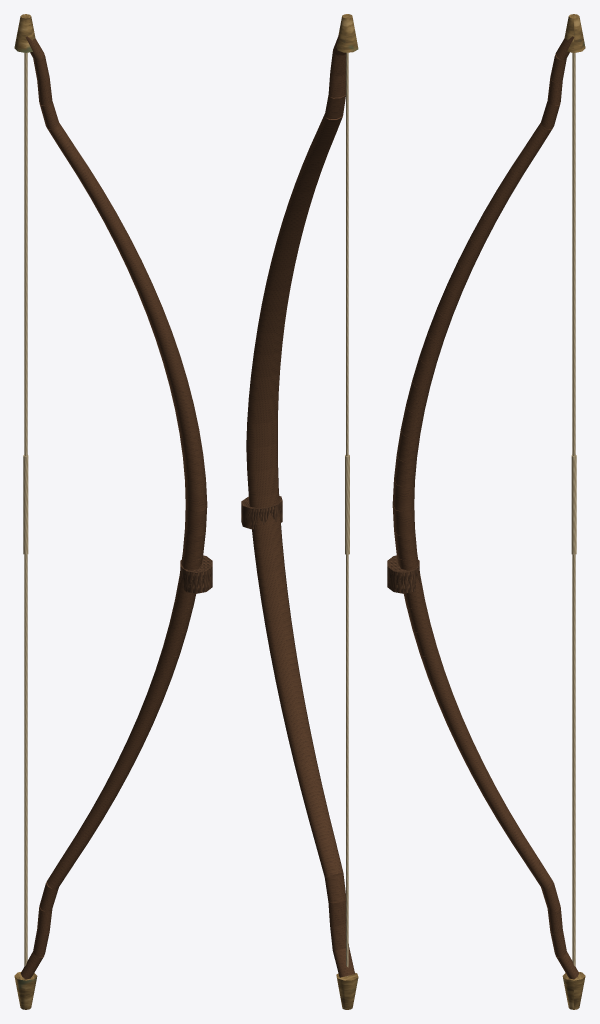
The model's file is arco.gltf.
3 renders of one model, left to right at view 1: azimuth 90°, elevation 25°; view 2: azimuth 210°, elevation 25°; view 3: azimuth 270°, elevation 25°, orthographic.
Visible parts, largest first — view 1: arco; view 2: arco; view 3: arco.
Part boxes in pixels (left/top/right/bottom): arco: left=14, top=14, right=212, bottom=1009; arco: left=241, top=14, right=358, bottom=1009; arco: left=387, top=14, right=585, bottom=1009.
Size of the model in its own units: 0.033 by 0.808 by 0.1464.
4 materials, 4 textured.
